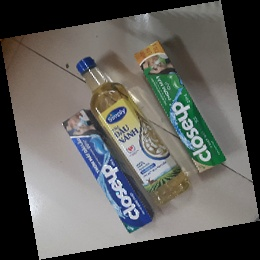CloseUp Tuyet: (62, 109, 154, 236)
CloseUp Xanh: (133, 40, 228, 174)
Simply: (76, 56, 193, 207)
